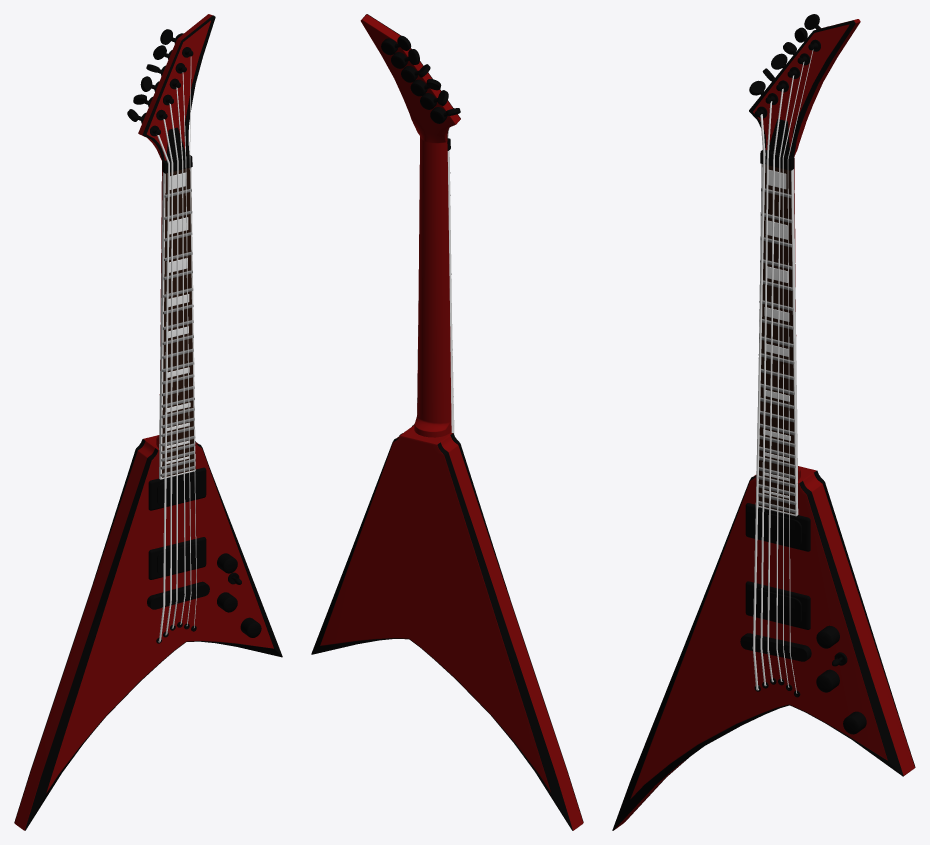
Rendered from Guitar.obj.
3 views of the same model, side by side, from view 1: azimuth 30°, elevation 25°; view 2: azimuth 150°, elevation 25°; view 3: azimuth 330°, elevation 25° (orthographic). The views are drawn at different scales.
Visible parts, largest first — view 1: pCube2_Mesh.018, pCube46_Mesh.019, EbonyFingerboard_Mesh.043, Neck_Mesh.020, OptionalFingerboard_Mesh.044, pCylinder14_Mesh.037, pCylinder15_Mesh.038, pCylinder16_Mesh.039, Headline_Mesh.078, pCylinder17_Mesh.040, pCube43_Mesh.033, pCube47_Mesh.036 (+5 smaller); view 2: pCube2_Mesh.018, Neck_Mesh.020, pCube46_Mesh.019, OptionalFingerboard_Mesh.044; view 3: pCube2_Mesh.018, pCube46_Mesh.019, EbonyFingerboard_Mesh.043, Neck_Mesh.020, pCylinder14_Mesh.037, pCylinder15_Mesh.038, OptionalFingerboard_Mesh.044, pCylinder16_Mesh.039, Headline_Mesh.078, pCylinder17_Mesh.040, pCube43_Mesh.033, pCube47_Mesh.036 (+5 smaller).
Boxes of the visible parts, x1,y1,x2,y2 form: pCube2_Mesh.018: (14,435,273,830); pCube46_Mesh.019: (14,439,282,830); EbonyFingerboard_Mesh.043: (162,168,194,477); Neck_Mesh.020: (138,14,212,448); OptionalFingerboard_Mesh.044: (159,167,195,479); pCylinder14_Mesh.037: (157,135,169,642); pCylinder15_Mesh.038: (163,119,173,635); pCylinder16_Mesh.039: (169,103,178,628); Headline_Mesh.078: (142,15,215,161); pCylinder17_Mesh.040: (176,87,185,624); pCube43_Mesh.033: (157,543,201,575); pCube47_Mesh.036: (157,474,201,506); pCube2_Mesh.018: (320,425,583,830); Neck_Mesh.020: (360,14,460,437); pCube46_Mesh.019: (311,424,583,830); OptionalFingerboard_Mesh.044: (417,150,453,432); pCube2_Mesh.018: (614,466,914,829); pCube46_Mesh.019: (612,470,915,830); EbonyFingerboard_Mesh.043: (758,164,795,514); Neck_Mesh.020: (753,19,860,480); pCylinder14_Mesh.037: (752,114,765,690); pCylinder15_Mesh.038: (760,101,772,686); OptionalFingerboard_Mesh.044: (758,163,798,516); pCylinder16_Mesh.039: (767,88,783,682); Headline_Mesh.078: (749,20,855,156); pCylinder17_Mesh.040: (776,75,794,681); pCube43_Mesh.033: (752,589,801,624); pCube47_Mesh.036: (752,510,801,546).
Bounding box in the file's own units: 9.72 × 27.27 × 1.94.
